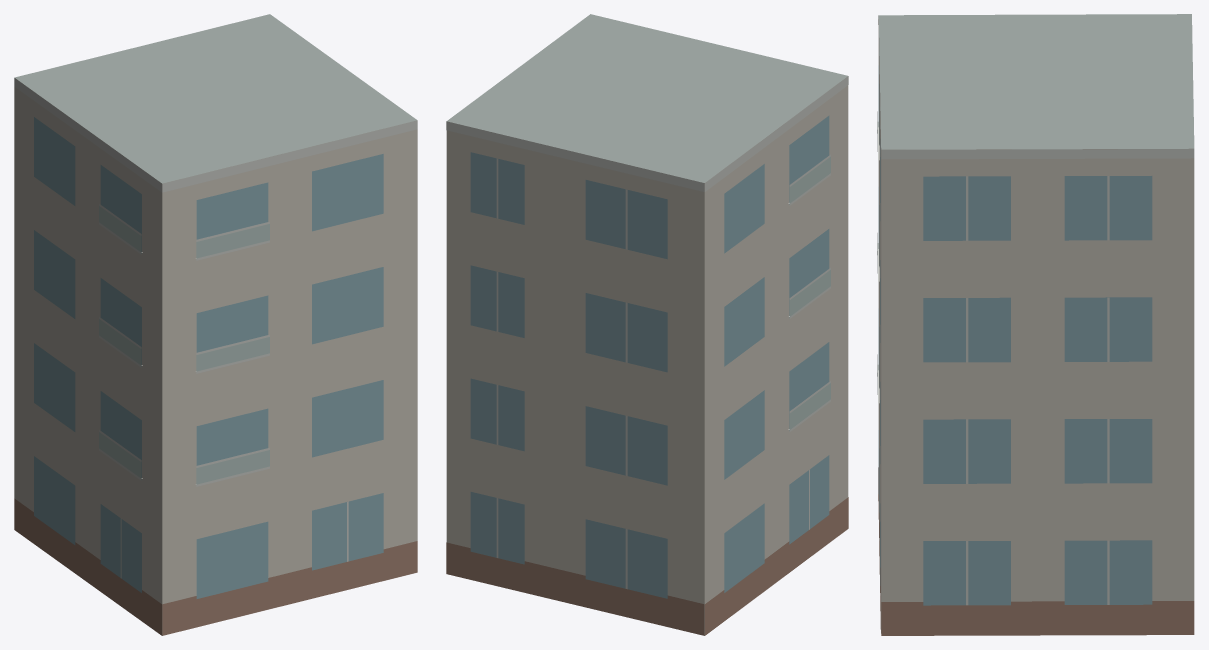
The model's file is residential-1f12b805-8af5-45be-a5e2-9b9ad36525c5.glb.
3 views of the same model, side by side, from view 1: azimuth 30°, elevation 25°; view 2: azimuth 150°, elevation 25°; view 3: azimuth 270°, elevation 25° (orthographic). The views are drawn at different scales.
Visible parts, largest first — view 1: residential-1f12b805-8af5-45be-a5e2-9b9ad36525c5.tmp; view 2: residential-1f12b805-8af5-45be-a5e2-9b9ad36525c5.tmp; view 3: residential-1f12b805-8af5-45be-a5e2-9b9ad36525c5.tmp.
Boxes of the visible parts, bbox=[...] form: residential-1f12b805-8af5-45be-a5e2-9b9ad36525c5.tmp: bbox=[14, 14, 417, 635]; residential-1f12b805-8af5-45be-a5e2-9b9ad36525c5.tmp: bbox=[446, 14, 848, 635]; residential-1f12b805-8af5-45be-a5e2-9b9ad36525c5.tmp: bbox=[877, 14, 1194, 635].
Bounding box in the file's own units: 7.32 × 12.2 × 7.22.
